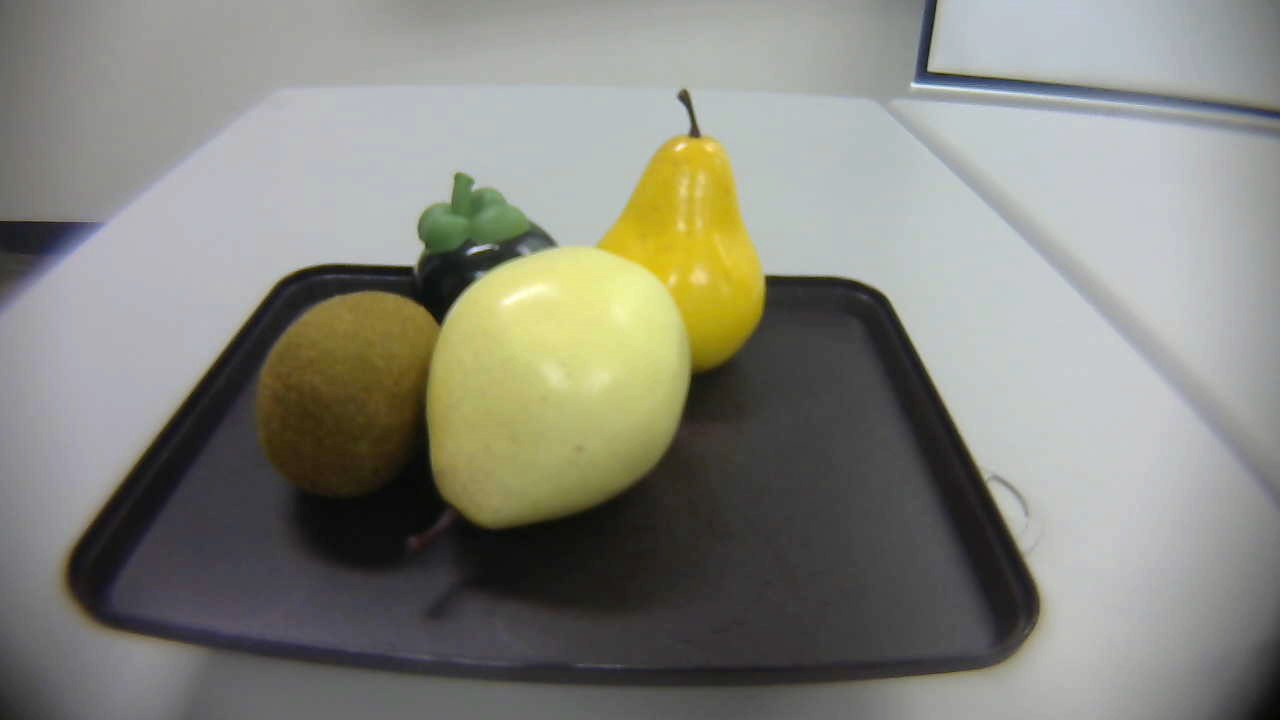kiwi fruit: (243, 281, 448, 514)
mangosteen: (399, 168, 565, 322)
western pear: (407, 239, 693, 554)
yellow pear: (582, 88, 775, 391)
